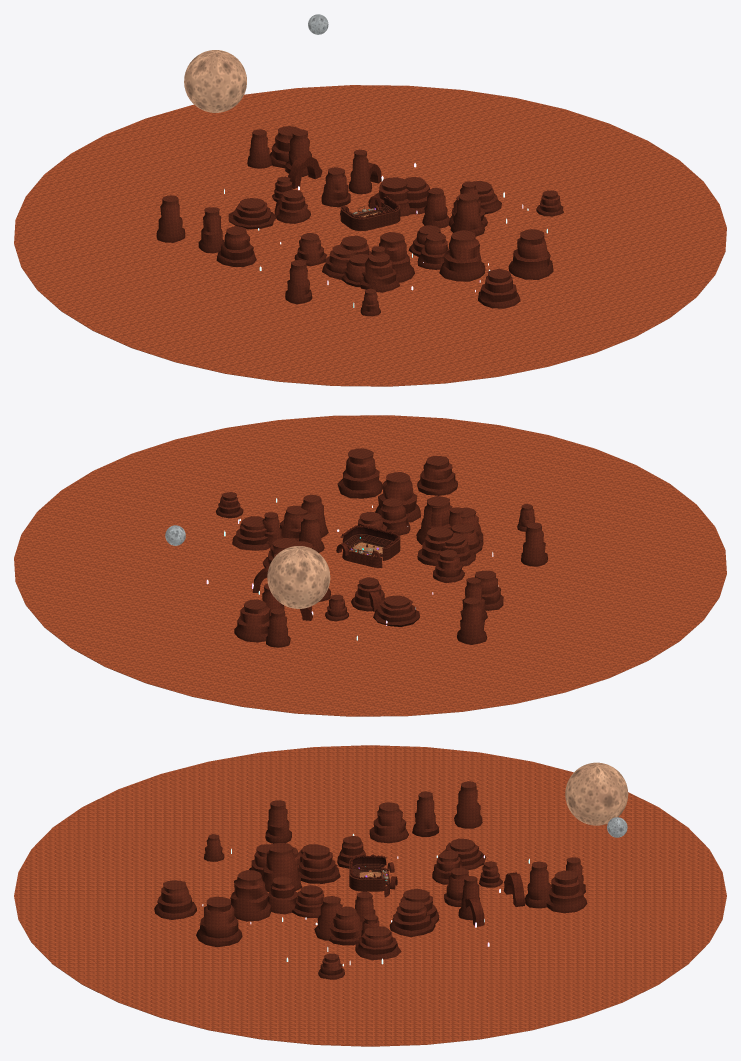
File: arena_alien.glb
3 views of the same model, one above another, from view 1: azimuth 30°, elevation 25°; view 2: azimuth 150°, elevation 25°; view 3: azimuth 270°, elevation 25° (orthographic).
Visible parts, largest first — view 1: Far, Cliff; view 2: Far, Cliff, Decor; view 3: Far, Cliff, Decor.
Part boxes in pixels (x1,y1,x2,y2): Far: (14,14,726,386); Cliff: (340,197,400,230); Far: (14,415,726,716); Cliff: (340,527,400,567); Decor: (336,525,398,560); Far: (14,745,726,1046); Cliff: (349,856,389,897); Decor: (350,854,397,889).
Bounding box in the file's own units: 1040 × 182 × 1040.
Materials: 12 (7 with a texture image).
